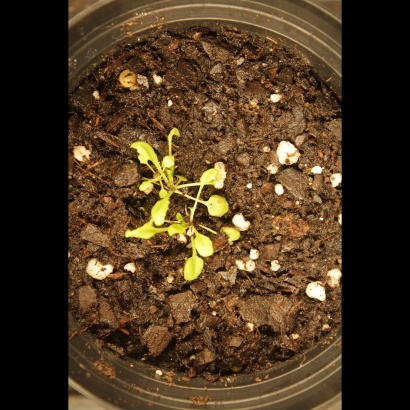leaf: (116, 216, 164, 254), (188, 227, 225, 265), (201, 191, 240, 225), (129, 134, 163, 171), (193, 165, 230, 195), (211, 223, 251, 248), (159, 121, 193, 150), (145, 192, 169, 227), (181, 255, 205, 288), (132, 173, 158, 196), (160, 151, 183, 174)
